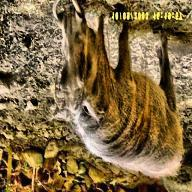boar: (43, 0, 192, 183)
